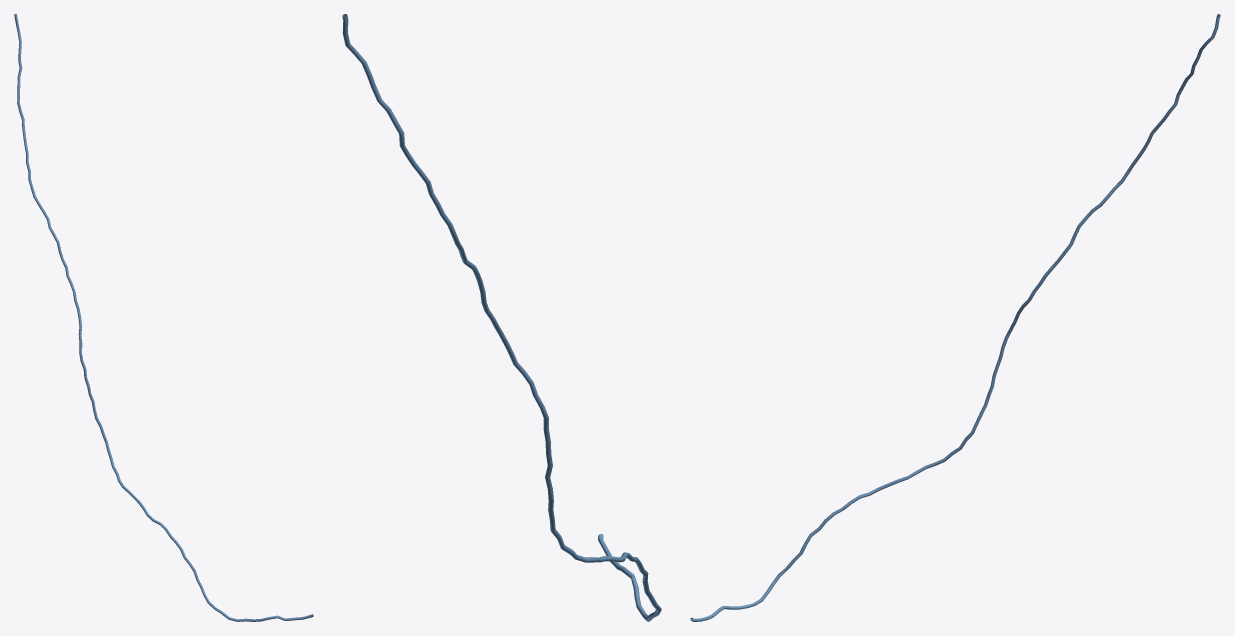
The model's file is sweep226.fbx.
3 renders of one model, left to right at view 1: azimuth 30°, elevation 25°; view 2: azimuth 150°, elevation 25°; view 3: azimuth 270°, elevation 25°, orthographic. The views are drawn at different scales.
Visible parts, largest first — view 1: sweep226; view 2: sweep226; view 3: sweep226.
Boxes of the visible parts, x1,y1,x2,y2 form: sweep226: [14, 14, 313, 621]; sweep226: [342, 14, 661, 621]; sweep226: [690, 14, 1220, 621].
Size of the model in its own units: 0.8228 by 3.63 by 3.04.
